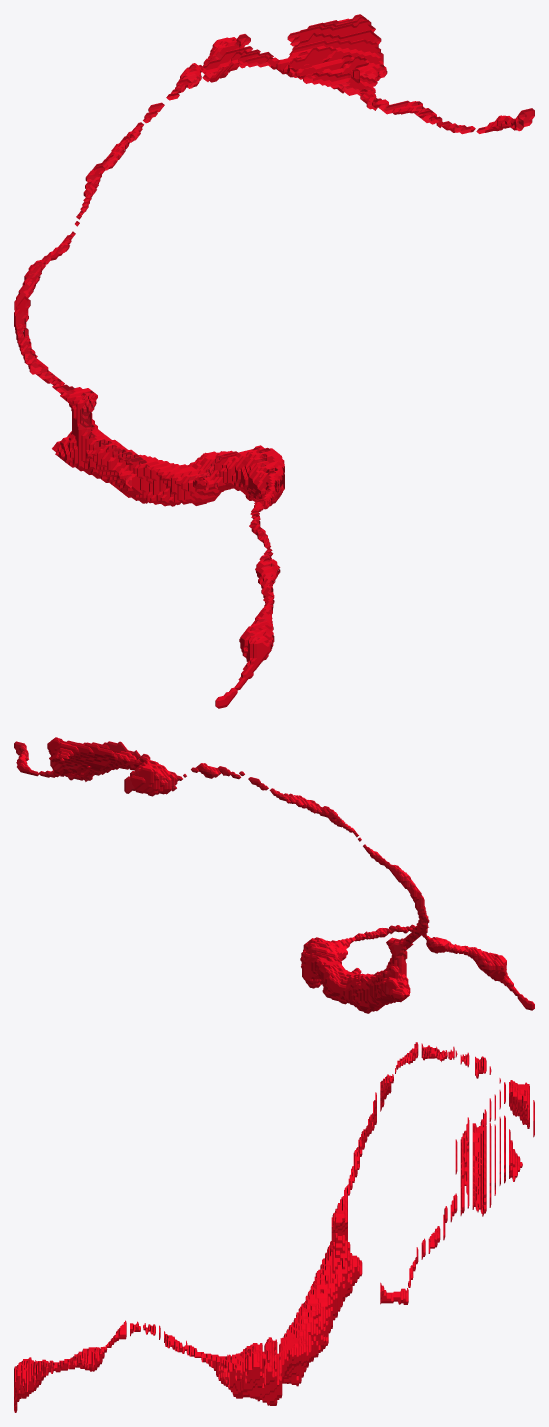
The model's file is SVV_SMDVR.gltf.
The picture shows the model from 3 angles, top to bottom: view 1: azimuth 30°, elevation 25°; view 2: azimuth 150°, elevation 25°; view 3: azimuth 270°, elevation 25°; orthographic projection. The views are drawn at different scales.
Visible parts, largest first — view 1: SMDVR; view 2: SMDVR; view 3: SMDVR.
Boxes of the visible parts, box(x1,y1,x2,y2) form: SMDVR: box(14, 14, 534, 708); SMDVR: box(14, 737, 534, 1013); SMDVR: box(14, 1042, 534, 1412).
Bounding box in the file's own units: 99892 × 79933 × 82373.
